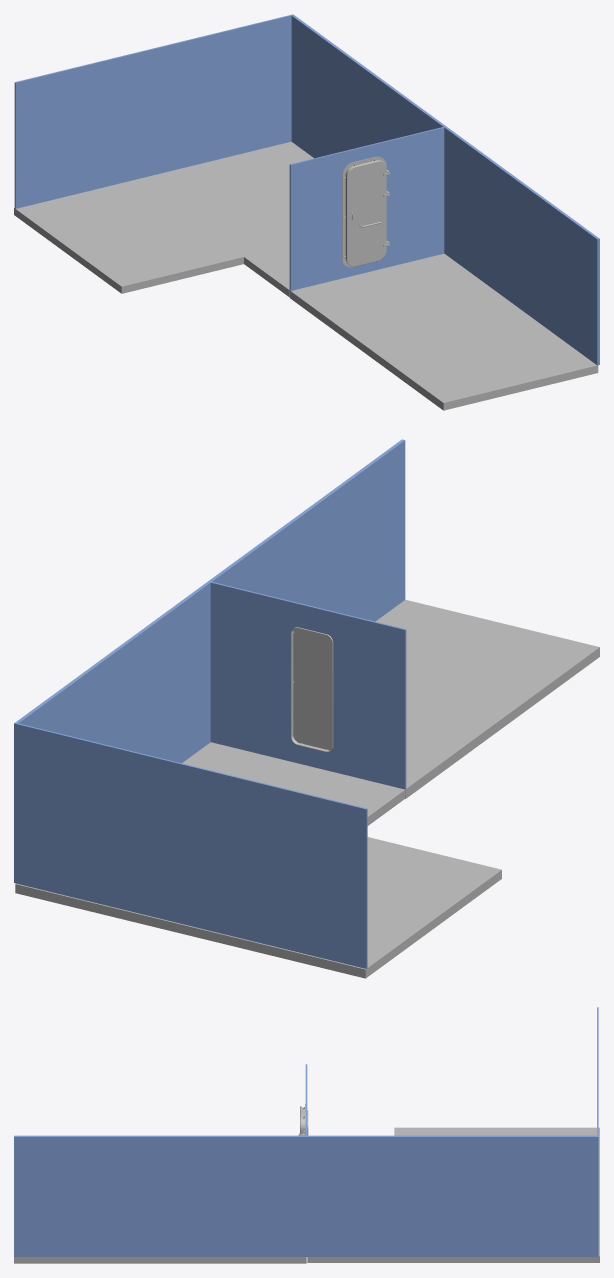
File: shiphallway3.glb
3 renders of one model, top to bottom at view 1: azimuth 30°, elevation 25°; view 2: azimuth 150°, elevation 25°; view 3: azimuth 270°, elevation 25°, orthographic. The views are drawn at different scales.
Parts seen in each view (by area): view 1: wallB, wallA, floorB, floorA, doorA, doorA_frame; view 2: wallB, wallA, floorA, floorB, doorA, doorA_frame; view 3: wallA, wallB, floorB, floorA.
Boxes of the visible parts, box(x1,y1,x2,y2) form: wallB: box(14, 14, 445, 208); wallA: box(289, 126, 599, 365); floorB: box(14, 141, 313, 297); floorA: box(290, 253, 598, 410); doorA: box(346, 160, 389, 266); doorA_frame: box(342, 156, 389, 267); wallB: box(14, 581, 367, 968); wallA: box(208, 439, 406, 789); floorA: box(376, 599, 599, 798); floorB: box(15, 742, 501, 978); doorA: box(293, 628, 331, 750); doorA_frame: box(291, 627, 333, 752); wallA: box(14, 1064, 307, 1256); wallB: box(305, 1007, 598, 1256); floorB: box(307, 1127, 599, 1262); floorA: box(14, 1257, 306, 1263).
Size of the model in its own units: 5.7 by 2.62 by 10.9.
